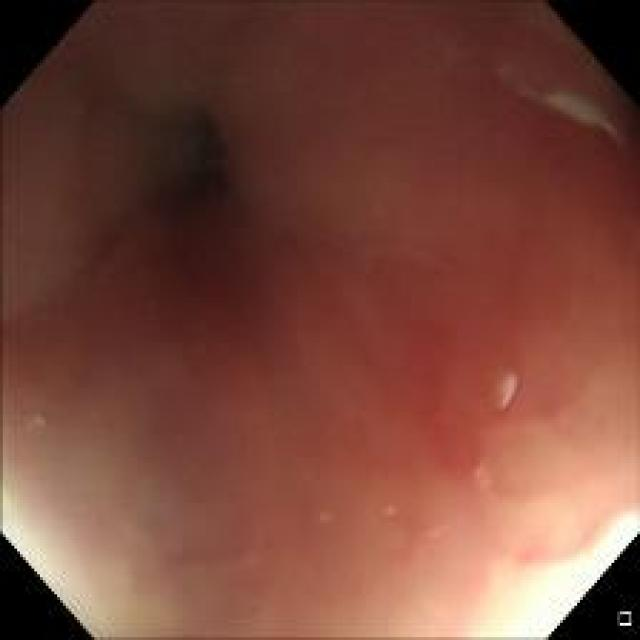blur: (2, 2, 635, 635)
bubbles: (466, 462, 494, 495), (420, 519, 449, 541), (312, 506, 334, 529), (26, 412, 48, 434), (379, 499, 398, 521)
color misalignment: (524, 79, 616, 145), (489, 366, 520, 409)
contrast: (128, 99, 241, 244)
saturation: (476, 528, 636, 632)
